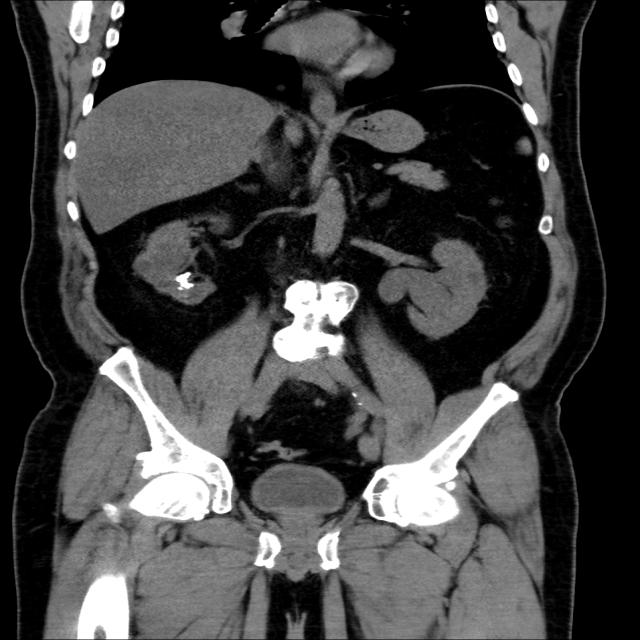kidneystone: (175, 271, 195, 289)
